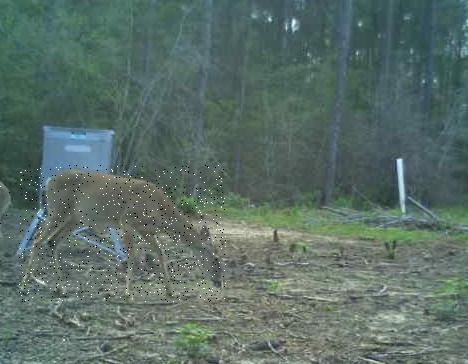Deer: (20, 165, 227, 302), (0, 172, 11, 245)
